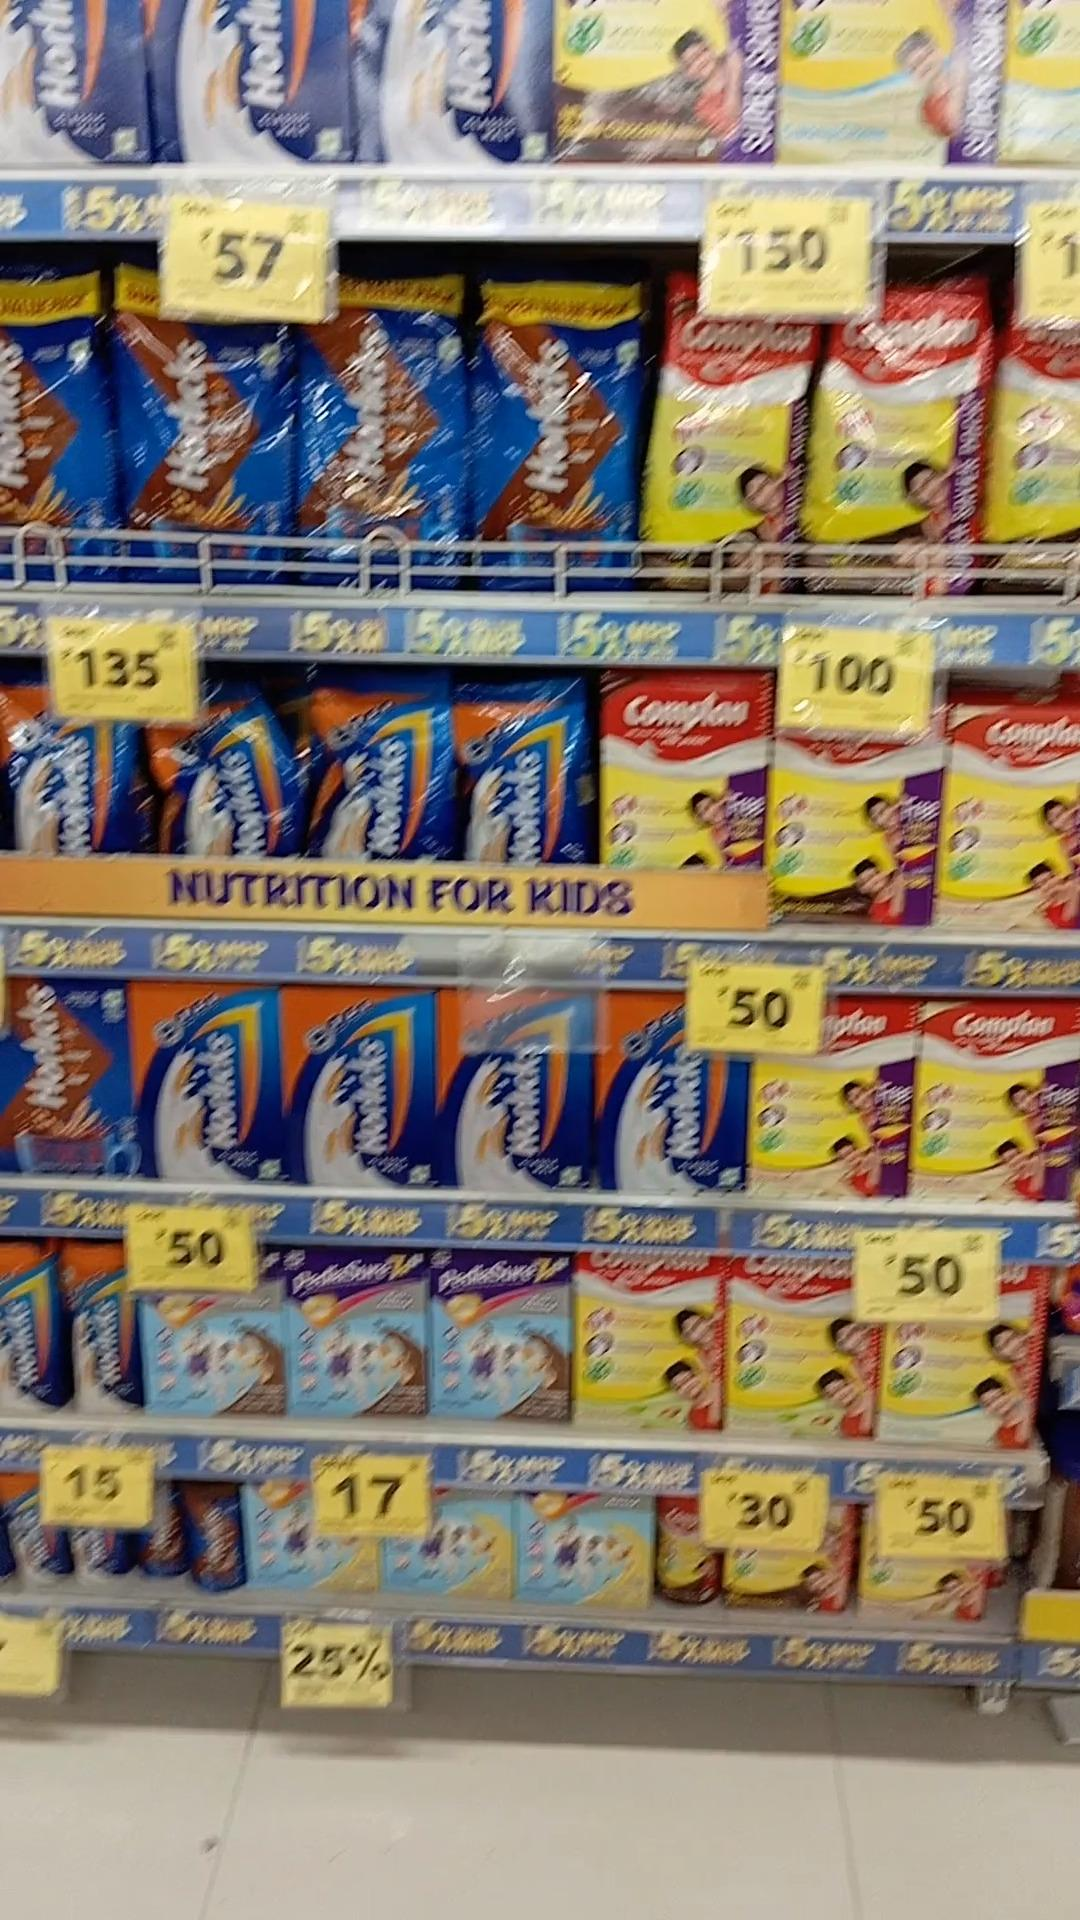COMPLAN_CHOCOLATE_500_GMS_PACK: (596, 673, 758, 862), (767, 745, 931, 926)
COMPLAN_CREAMY_CLASSIC_500_G_PACK: (886, 1300, 1034, 1449)
COMPLAN_KESAR_BADAM_500_GMS_PACK: (915, 1000, 1073, 1200), (944, 707, 1080, 935), (750, 1035, 907, 1212)
COMPLAN_PISTA_BADAM_500_GMS_PACK: (727, 1259, 873, 1440), (580, 1254, 723, 1431)
COMPLAN_RC_POUCH_700_GMS_12: (641, 299, 807, 593), (815, 309, 977, 591)
HORLICK_CHOCOLATE_500_G_PACK: (7, 976, 127, 1175)
HORLICK_CHOCOLATE_750_G_POUCH: (462, 276, 638, 591), (297, 295, 459, 587), (113, 316, 289, 585)
HORLICK_CLASSIC_MALT_500_G_JAR: (59, 1236, 140, 1410)
HORLICK_CLASSIC_MALT_500_G_PACK: (287, 982, 439, 1193), (446, 992, 593, 1195), (599, 988, 741, 1189), (129, 989, 282, 1175)
HORLICK_CLASSIC_MALT_750_G_POUCH: (301, 676, 448, 862), (455, 675, 592, 866), (8, 720, 153, 853), (156, 723, 293, 860)
